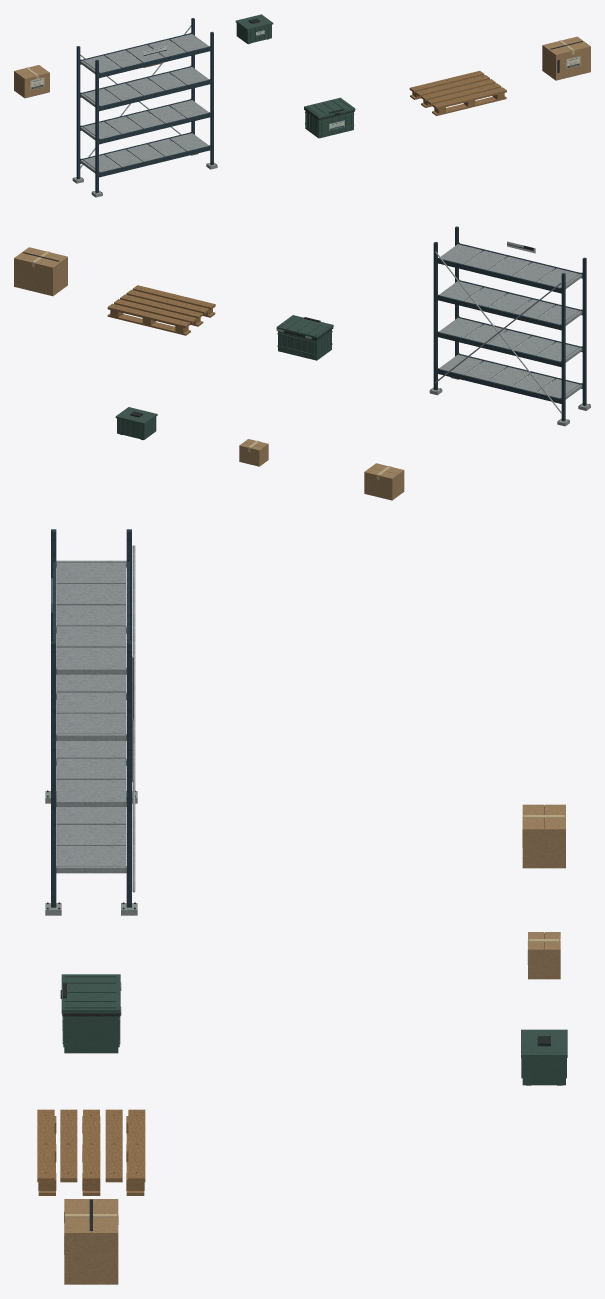
Rendered from ProjectZ_STOR26_StorageProps.glb.
3 renders of one model, top to bottom at view 1: azimuth 30°, elevation 25°; view 2: azimuth 150°, elevation 25°; view 3: azimuth 270°, elevation 25°, orthographic. The views are drawn at different scales.
Parts seen in each view (by area): view 1: Render_Carton_Large_600x400_CorrugatedFront, Render_Shelving_Post_1_2_40mm, Render_Shelf1_FrontLip, Render_Shelf4_FrontLip, Render_Shelf3_FrontLip, Render_Shelf2_FrontLip, Render_Crate_Lid_MainRibbedPanel, Render_Shelving_Post_1_1_40mm, Render_Shelving_Post_2_1_40mm, Render_Pallet_TopPlank_1, Render_Pallet_TopPlank_5, Render_Pallet_TopPlank_2 (+29 smaller); view 2: Render_Carton_Large_600x400_CorrugatedRear, Render_Shelving_Post_1_1_40mm, Render_Shelving_Post_1_2_40mm, Render_Shelf1_RearLip, Render_Shelf3_RearLip, Render_Shelf2_RearLip, Render_Shelf4_RearLip, Render_Shelving_Post_2_2_40mm, Render_Crate_Lid_MainRibbedPanel, Render_Crate_HollowSidewall_2, Render_Carton_Medium_430x320_CorrugatedRear, Render_Pallet_TopPlank_5 (+28 smaller); view 3: Render_Carton_Large_600x400_CorrugatedRight, Render_Crate_Lid_MainRibbedPanel, Render_Shelving_Post_2_1_40mm, Render_Shelving_Post_2_2_40mm, Render_Carton_Medium_430x320_CorrugatedRight, Render_Crate_HollowSidewall_4, Render_Shelf4_GalvanizedDeckSlat_4, Render_Shelf2_GalvanizedDeckSlat_4, Render_Shelf3_GalvanizedDeckSlat_4, Render_Shelf4_GalvanizedDeckSlat_2, Render_Shelf4_GalvanizedDeckSlat_3, Render_Shelf1_GalvanizedDeckSlat_4 (+16 smaller).
Part boxes in pixels (<box>): Render_Carton_Large_600x400_CorrugatedFront: <box>555,47,590,80</box>; Render_Shelving_Post_1_2_40mm: <box>76,46,80,179</box>; Render_Shelf1_FrontLip: <box>99,146,210,177</box>; Render_Shelf4_FrontLip: <box>99,46,210,78</box>; Render_Shelf3_FrontLip: <box>99,79,210,111</box>; Render_Shelf2_FrontLip: <box>99,113,210,144</box>; Render_Crate_Lid_MainRibbedPanel: <box>304,97,355,118</box>; Render_Shelving_Post_1_1_40mm: <box>95,59,98,192</box>; Render_Shelving_Post_2_1_40mm: <box>210,31,213,165</box>; Render_Pallet_TopPlank_1: <box>432,87,506,109</box>; Render_Pallet_TopPlank_5: <box>409,70,484,92</box>; Render_Pallet_TopPlank_2: <box>426,83,501,105</box>; Render_Carton_Large_600x400_CorrugatedRear: <box>14,258,53,295</box>; Render_Shelving_Post_1_1_40mm: <box>582,257,586,405</box>; Render_Shelving_Post_1_2_40mm: <box>561,273,565,421</box>; Render_Shelf1_RearLip: <box>437,369,561,403</box>; Render_Shelf3_RearLip: <box>437,295,561,330</box>; Render_Shelf2_RearLip: <box>437,332,561,367</box>; Render_Shelf4_RearLip: <box>437,258,561,293</box>; Render_Shelving_Post_2_2_40mm: <box>433,242,437,390</box>; Render_Crate_Lid_MainRibbedPanel: <box>276,315,333,338</box>; Render_Crate_HollowSidewall_2: <box>278,331,317,358</box>; Render_Carton_Medium_430x320_CorrugatedRear: <box>364,472,392,499</box>; Render_Pallet_TopPlank_5: <box>107,303,190,328</box>; Render_Carton_Large_600x400_CorrugatedRight: <box>65,1233,117,1283</box>; Render_Crate_Lid_MainRibbedPanel: <box>61,974,120,1013</box>; Render_Shelving_Post_2_1_40mm: <box>51,641,56,907</box>; Render_Shelving_Post_2_2_40mm: <box>126,641,131,907</box>; Render_Carton_Medium_430x320_CorrugatedRight: <box>523,829,564,867</box>; Render_Crate_HollowSidewall_4: <box>66,1016,116,1049</box>; Render_Shelf4_GalvanizedDeckSlat_4: <box>56,626,125,647</box>; Render_Shelf2_GalvanizedDeckSlat_4: <box>56,758,125,779</box>; Render_Shelf3_GalvanizedDeckSlat_4: <box>56,692,125,713</box>; Render_Shelf4_GalvanizedDeckSlat_2: <box>56,584,125,605</box>; Render_Shelf4_GalvanizedDeckSlat_3: <box>56,605,125,626</box>; Render_Shelf1_GalvanizedDeckSlat_4: <box>56,825,125,845</box>.
Size of the model in its own units: 8.54 by 2.22 by 3.92.
10 materials, 10 textured.
